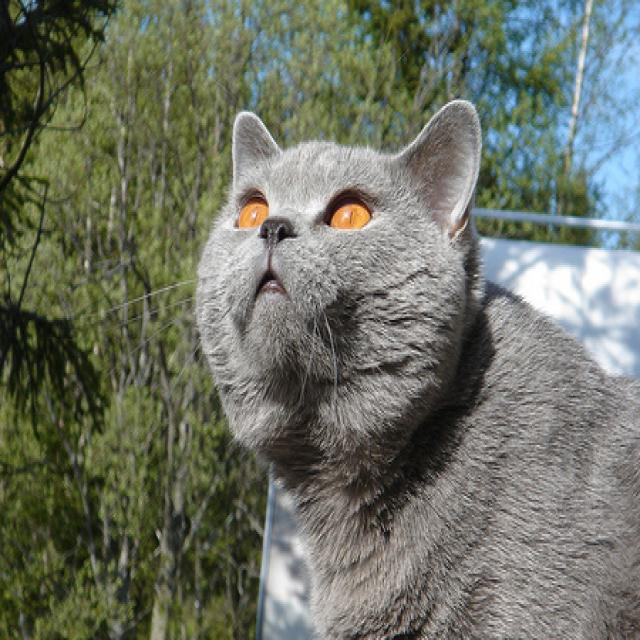British Shorthair: (192, 94, 640, 640)
